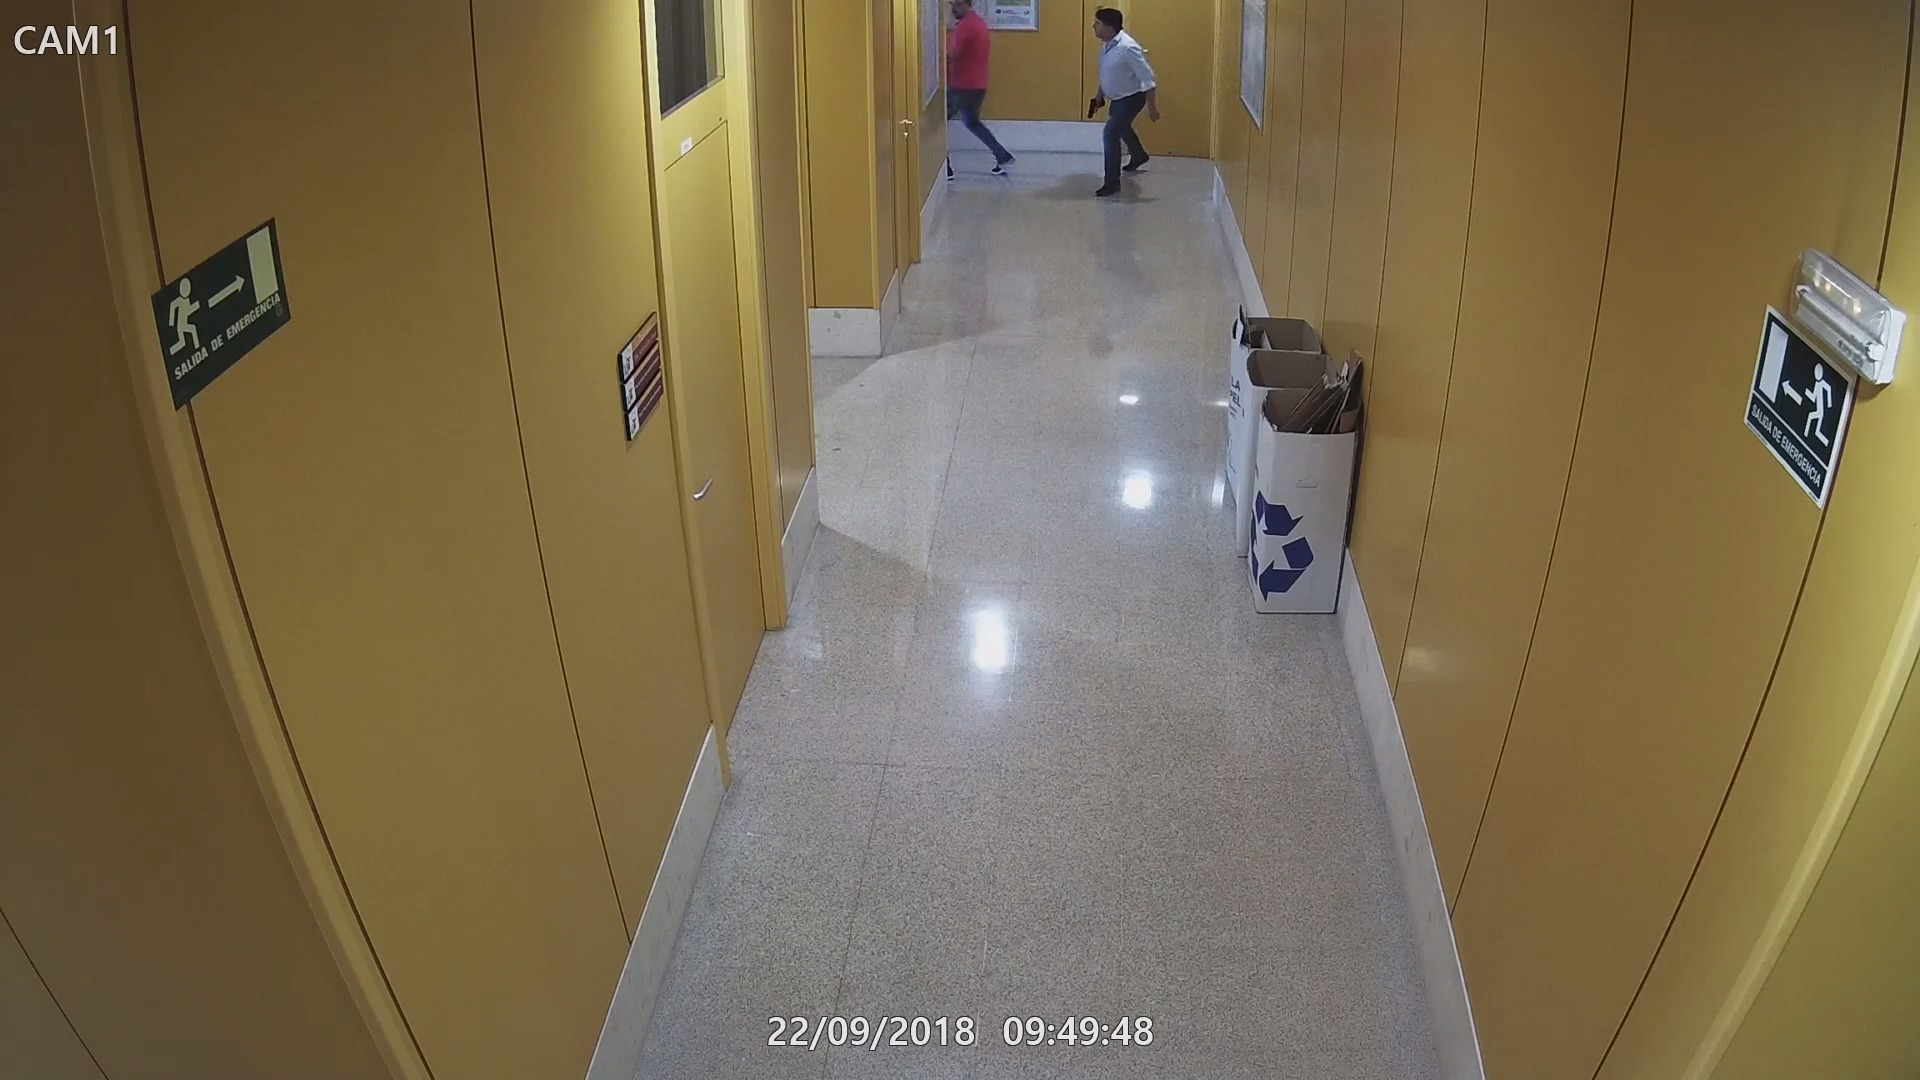Handgun: (1083, 94, 1108, 120)
